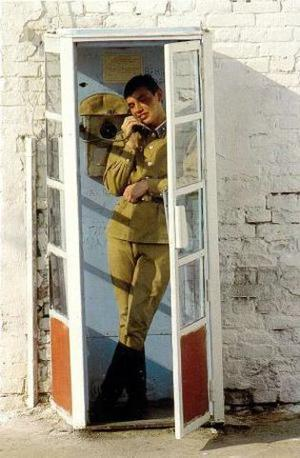person: (88, 72, 172, 430)
